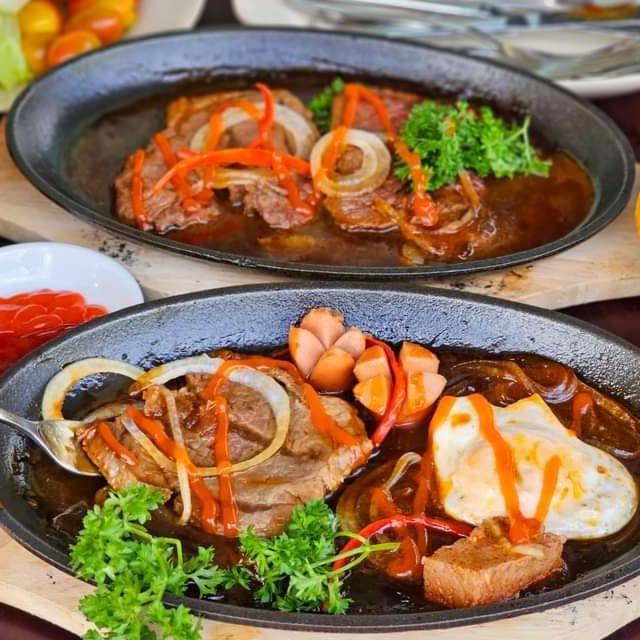thit bo: (69, 343, 379, 545), (111, 76, 332, 242), (324, 78, 492, 261)
trung: (423, 386, 640, 546)
